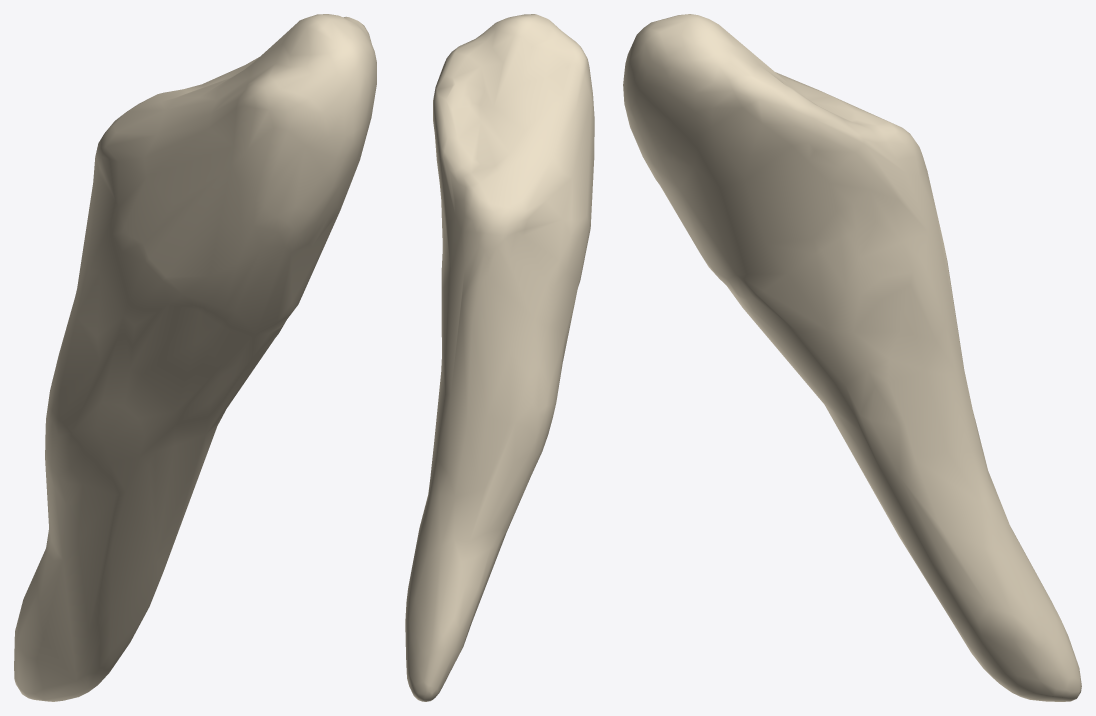
Rendered from lower-canine-l.glb.
3 views of the same model, side by side, from view 1: azimuth 30°, elevation 25°; view 2: azimuth 150°, elevation 25°; view 3: azimuth 270°, elevation 25° (orthographic). The views are drawn at different scales.
Visible parts, largest first — view 1: Lower canine.l; view 2: Lower canine.l; view 3: Lower canine.l.
Part boxes in pixels (<box>): Lower canine.l: <box>14,14,376,701</box>; Lower canine.l: <box>405,14,594,701</box>; Lower canine.l: <box>623,14,1081,701</box>.
Size of the model in its own units: 0.0077 by 0.0262 by 0.0152.
